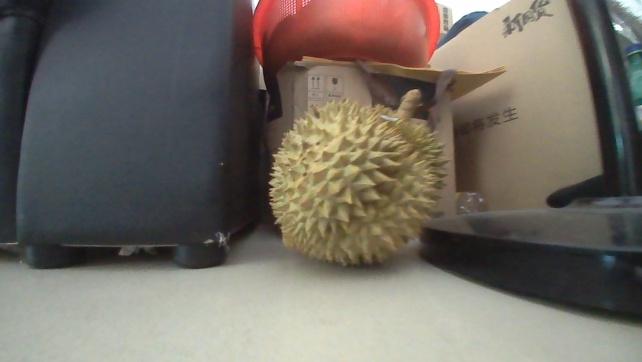chair_base: (421, 174, 641, 313)
sofa1: (0, 0, 274, 269)
